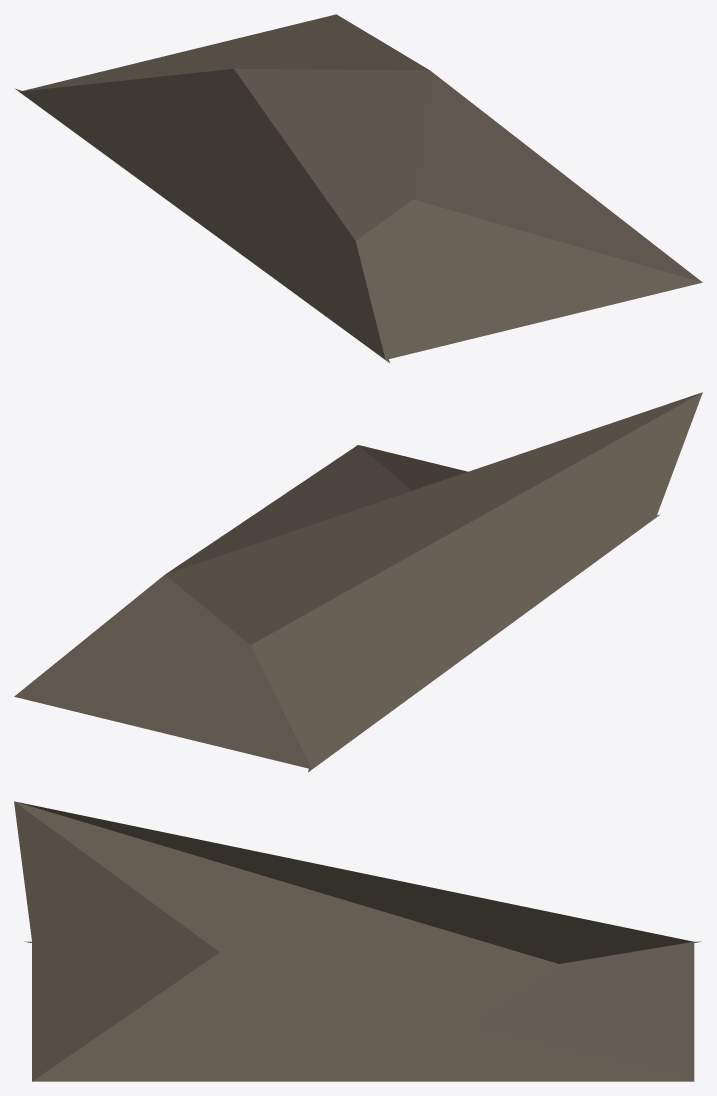
Rendered from broken_iron_bar.fbx.
The picture shows the model from 3 angles, top to bottom: view 1: azimuth 30°, elevation 25°; view 2: azimuth 150°, elevation 25°; view 3: azimuth 270°, elevation 25°; orthographic projection. The views are drawn at different scales.
Visible parts, largest first — view 1: Plane; view 2: Plane; view 3: Plane.
Boxes of the visible parts, x1,y1,x2,y2 form: Plane: (14, 14, 702, 362); Plane: (14, 392, 702, 772); Plane: (14, 801, 701, 1081).
Size of the model in its own units: 225 by 81.89 by 416.
